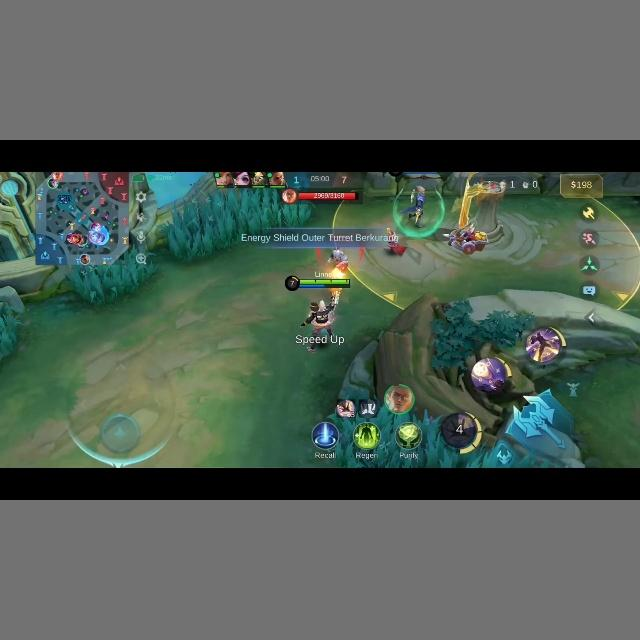hero_enemy: (401, 185, 424, 228)
hero_self: (299, 297, 337, 351)
hp_enemy: (298, 191, 356, 200)
hp_self: (301, 278, 351, 287)
minion_enemy: (445, 226, 488, 254), (384, 227, 406, 256), (324, 249, 347, 274), (326, 248, 348, 271)
turret_enemy: (457, 178, 506, 231), (480, 181, 508, 236)
